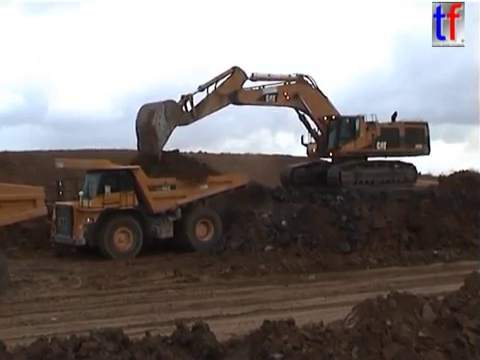excavator: (133, 64, 432, 194)
truck: (48, 156, 249, 260), (1, 178, 50, 299)
